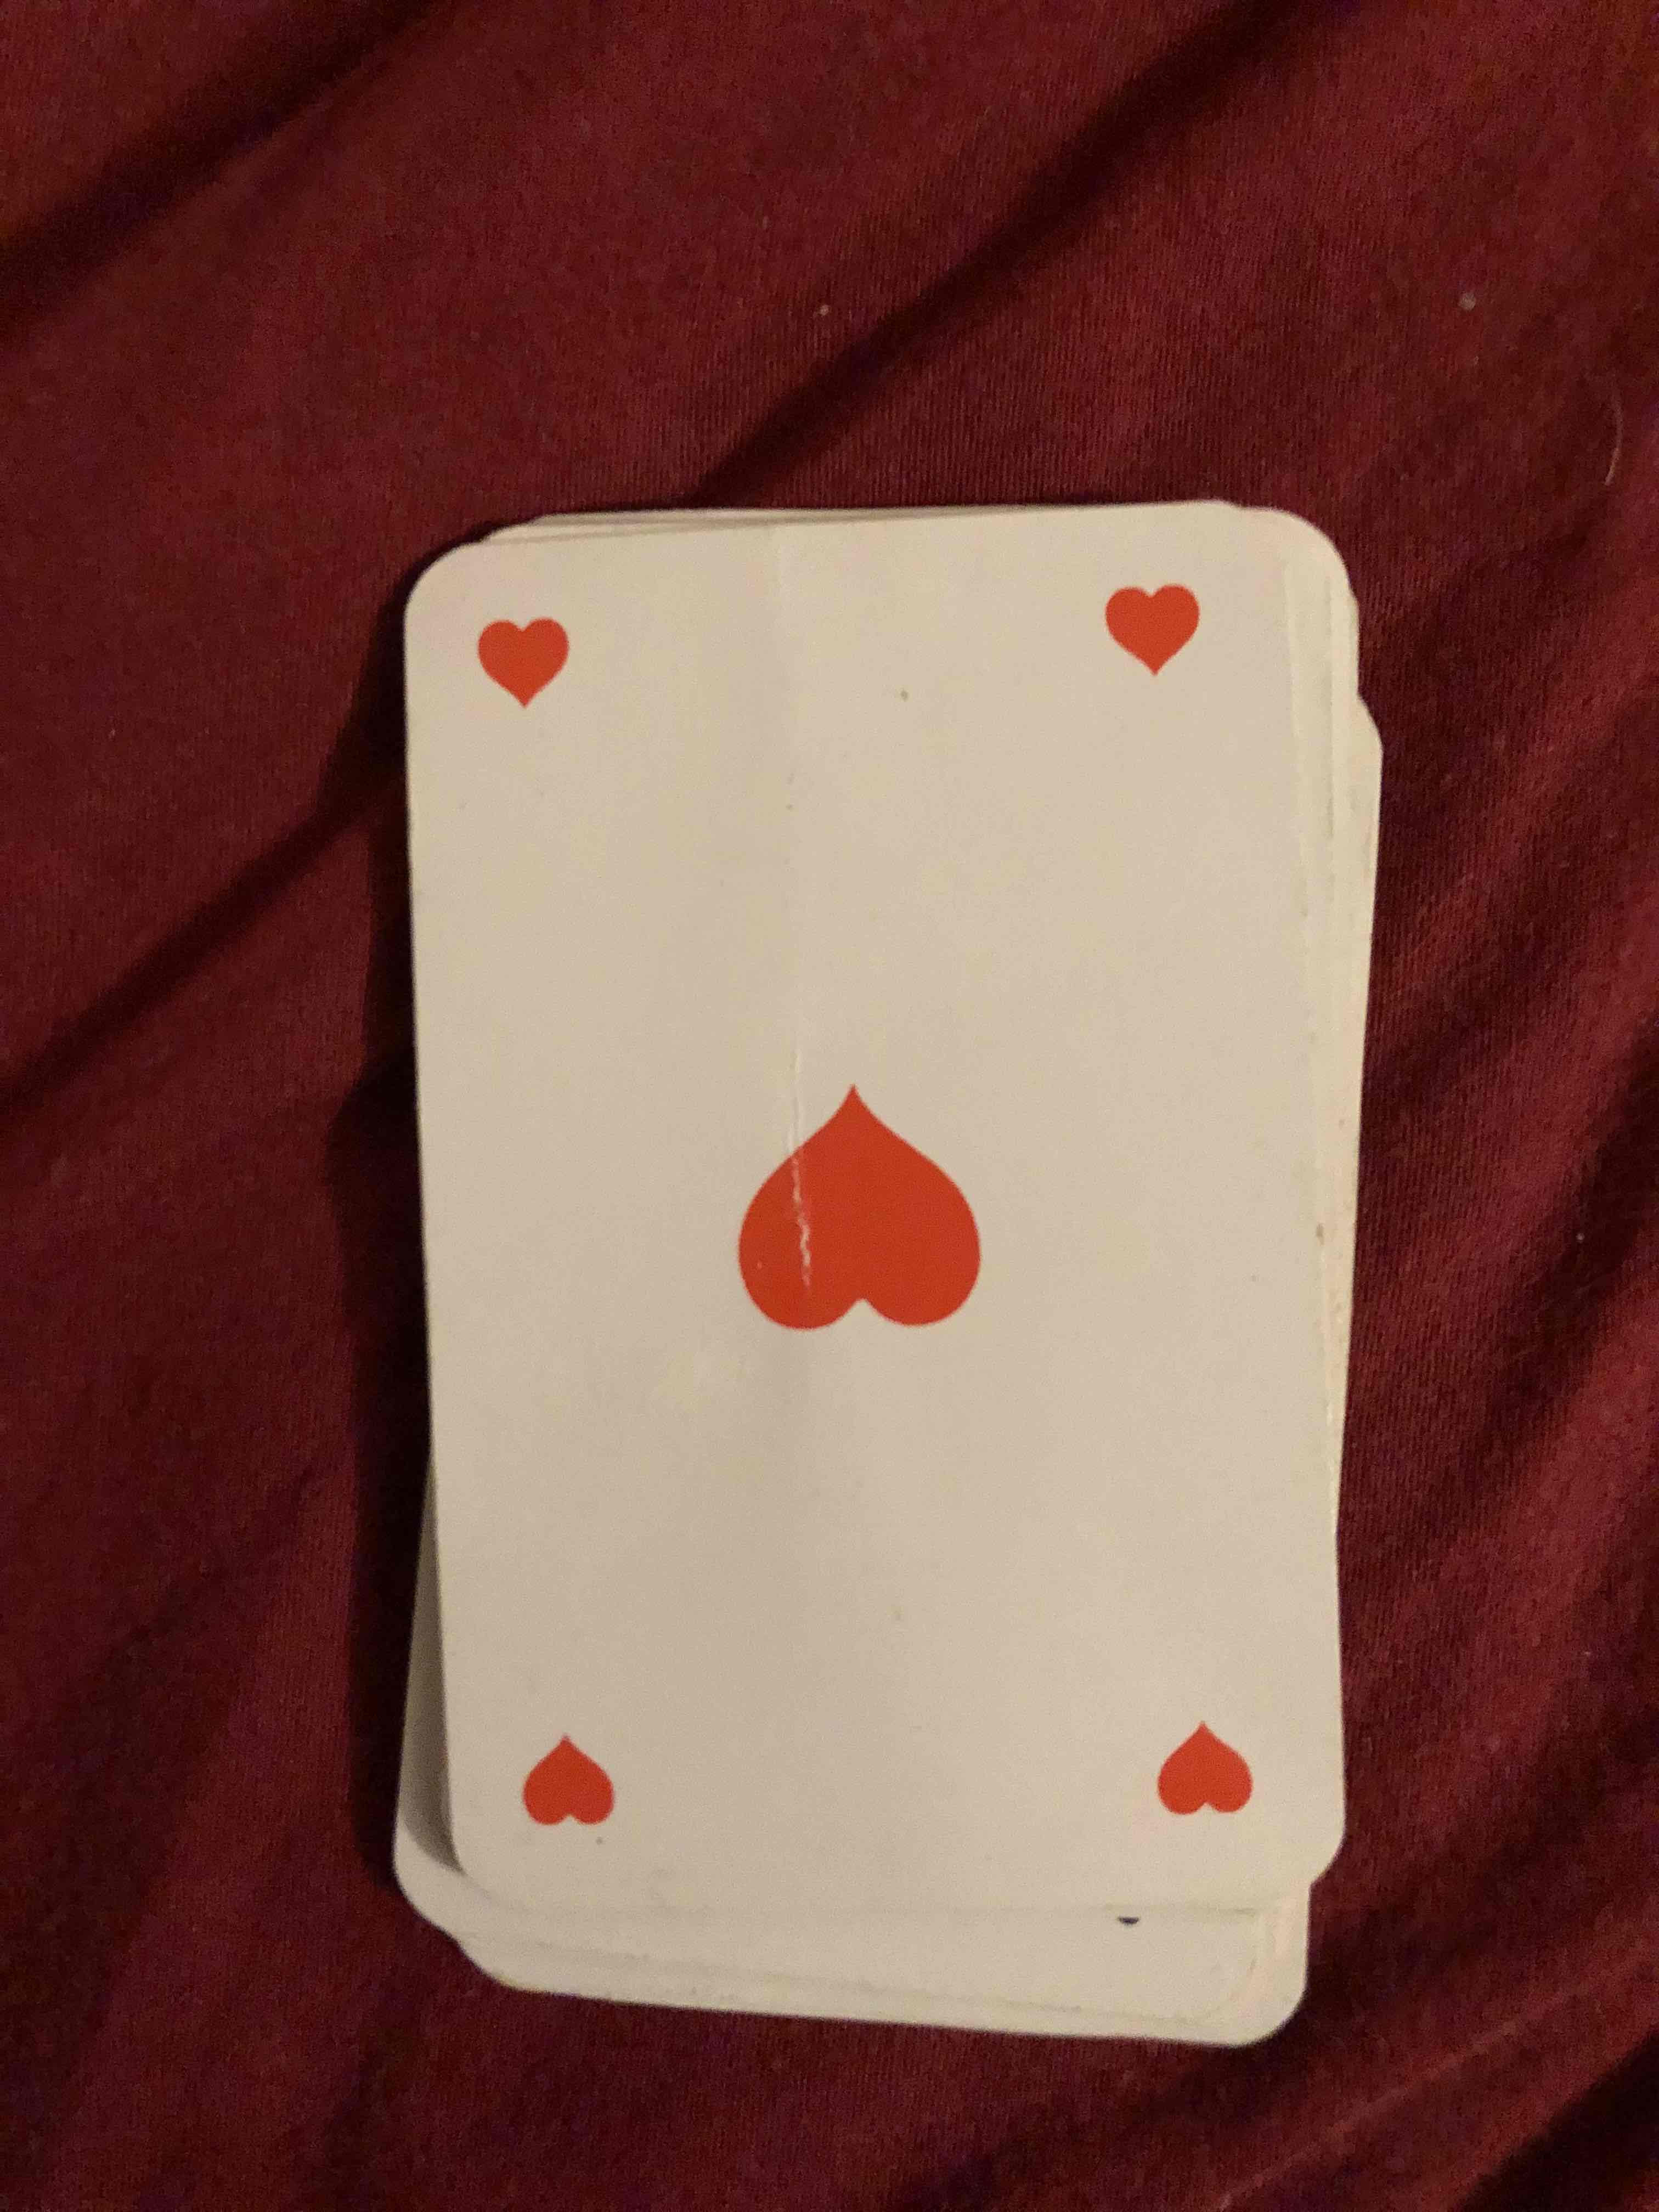heartsAce: (389, 503, 1347, 1881)
